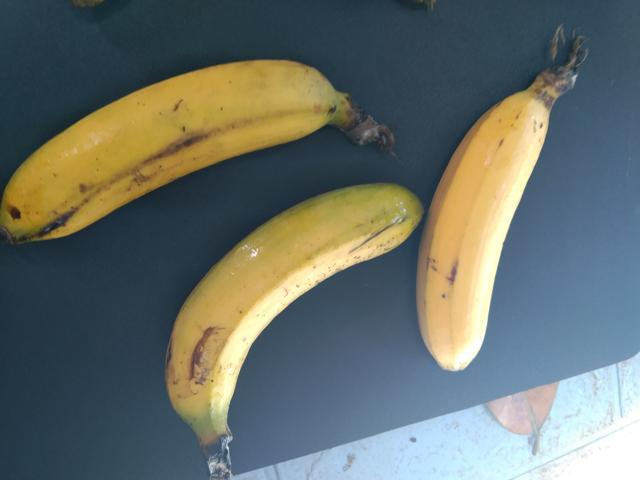freshripe: (393, 82, 557, 394)
ripe: (163, 151, 414, 440), (0, 61, 361, 239)
